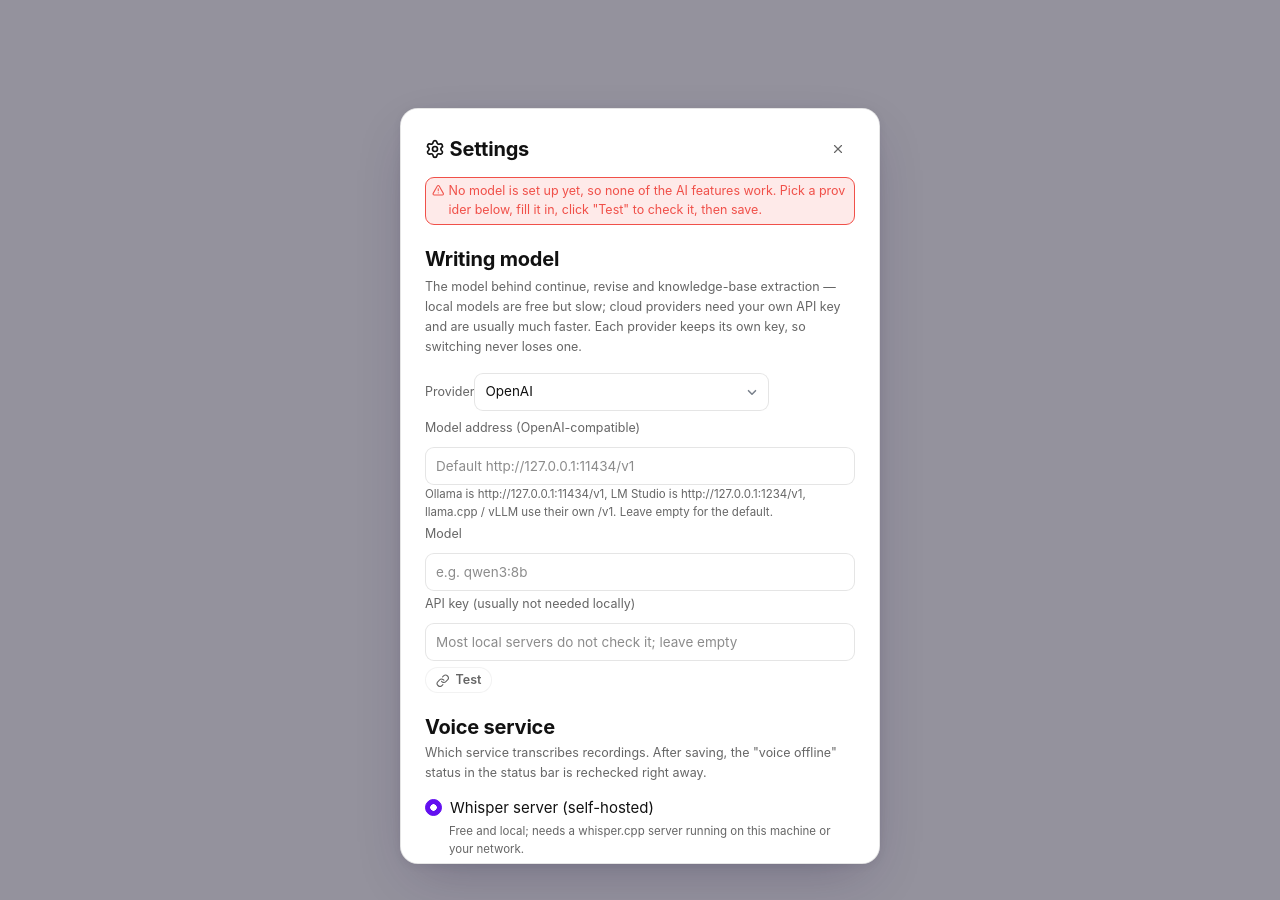
provider dropdown › key field: notice when a required key is missing; saved key shows its tail + clear button; local says optional
This screenshot has width=1280, height=900.
Expected: the text "No API key set" is not shown
Select "OpenAI" in the dropdown labelled "Provider" at (622, 392), box [474,372,769,410]
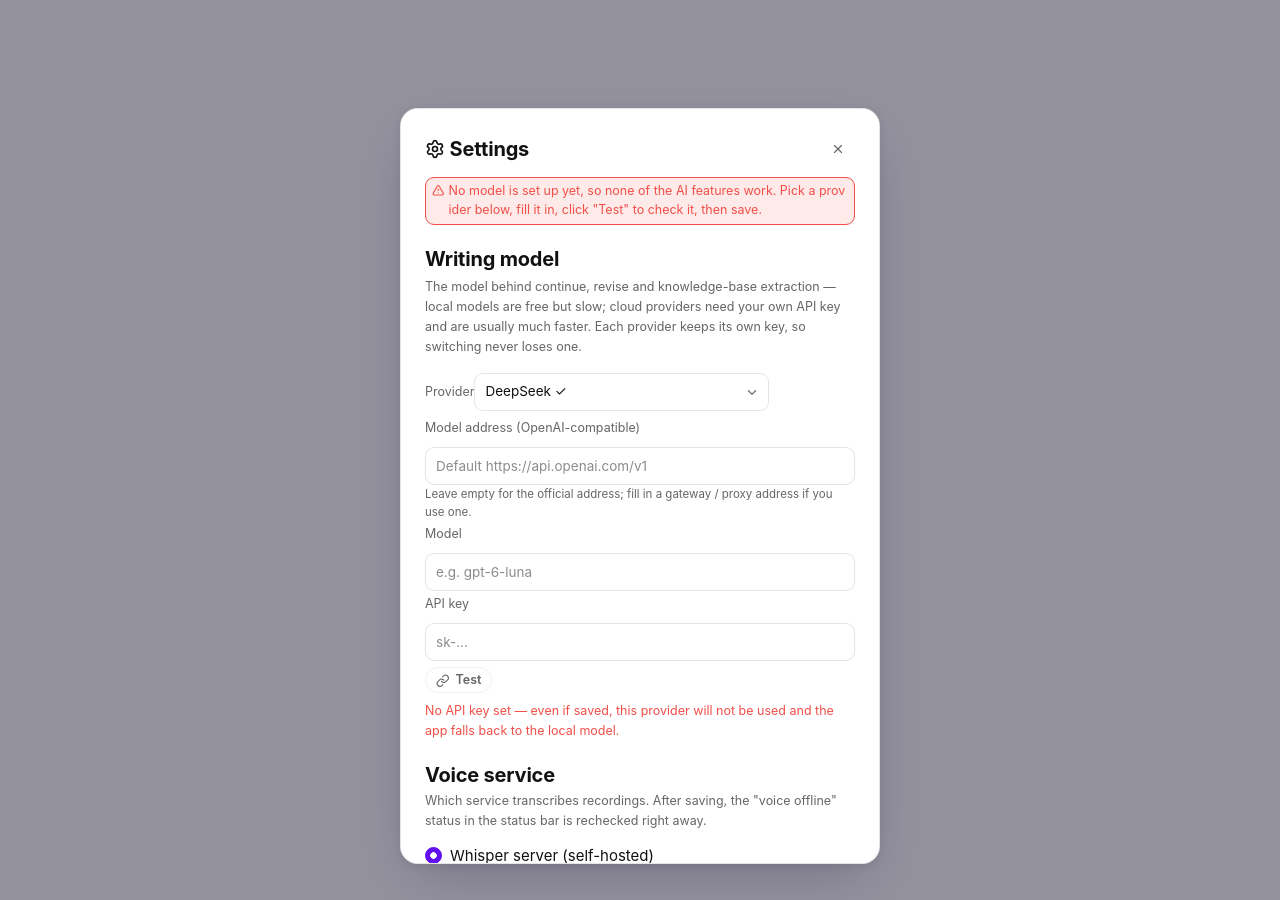
Expected: the text "Clear saved key" is not shown
Now the text "No API key set" is shown, box [425,703,834,738]
Select "DeepSeek ✓" in the dropdown labelled "Provider" at (622, 392), box [474,372,769,410]
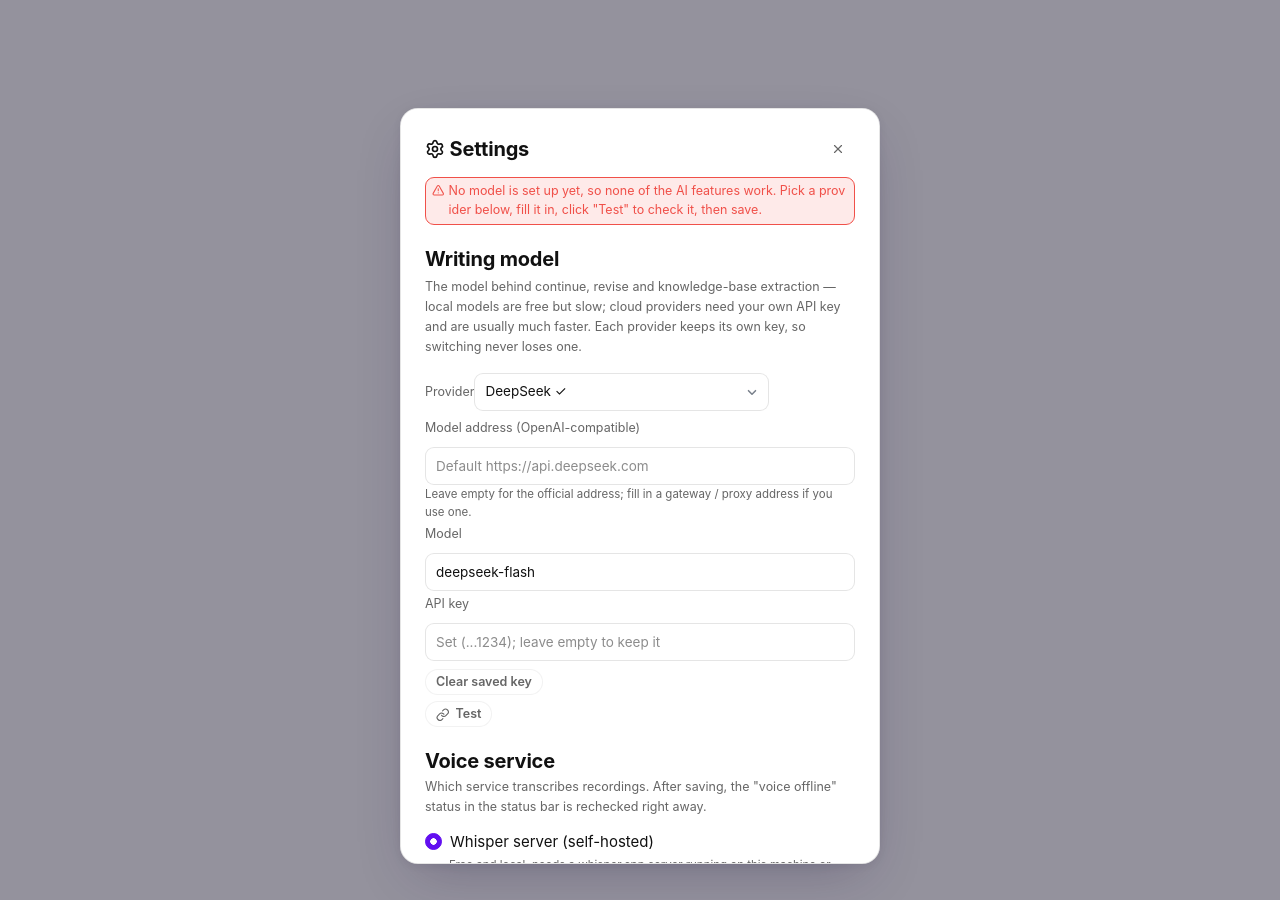
Now the text "Clear saved key" is shown, box [425,669,543,695]
Now the text "No API key set" is gone
Now the field labelled "Model" holds "deepseek-flash", box [425,553,855,591]
